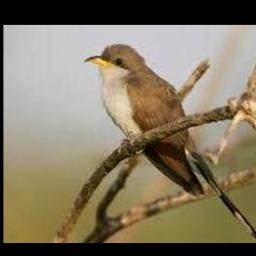Cuckoo: (85, 44, 256, 239)
